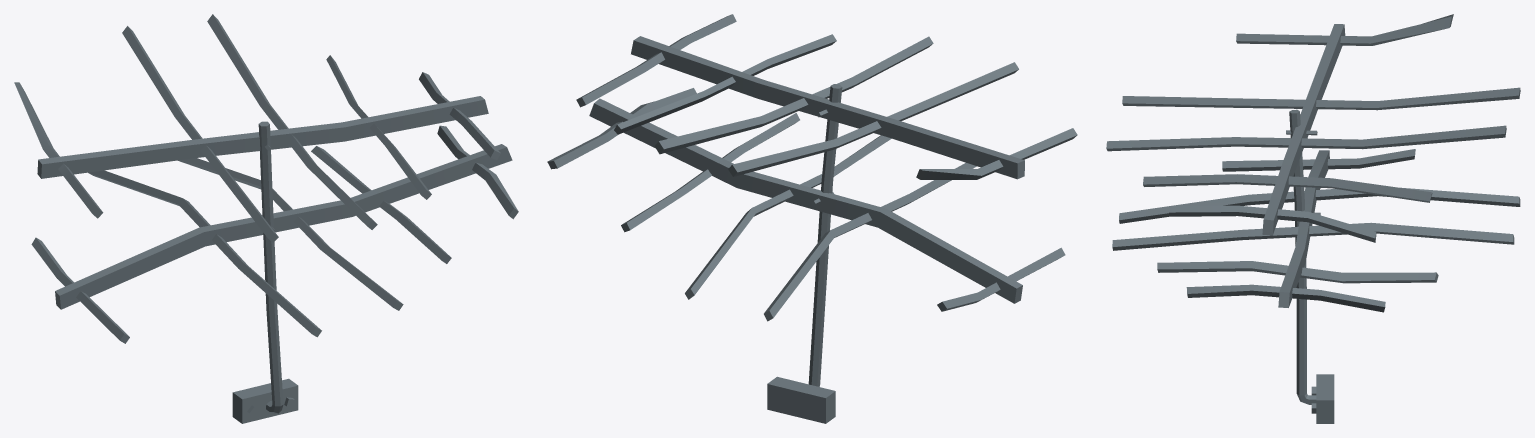
File: SM_Prop_TV_Antenna_01.glb
3 renders of one model, left to right at view 1: azimuth 30°, elevation 25°; view 2: azimuth 150°, elevation 25°; view 3: azimuth 270°, elevation 25°, orthographic. The views are drawn at different scales.
Parts seen in each view (by area): view 1: SM_Prop_TV_Antenna_01; view 2: SM_Prop_TV_Antenna_01; view 3: SM_Prop_TV_Antenna_01.
Boxes of the visible parts, left/top/right/bottom form: SM_Prop_TV_Antenna_01: left=14, top=14, right=518, bottom=423; SM_Prop_TV_Antenna_01: left=547, top=14, right=1077, bottom=423; SM_Prop_TV_Antenna_01: left=1106, top=14, right=1520, bottom=423.
Size of the model in its own units: 2.02 by 1.43 by 1.72.
Materials: 1 (1 with a texture image).
